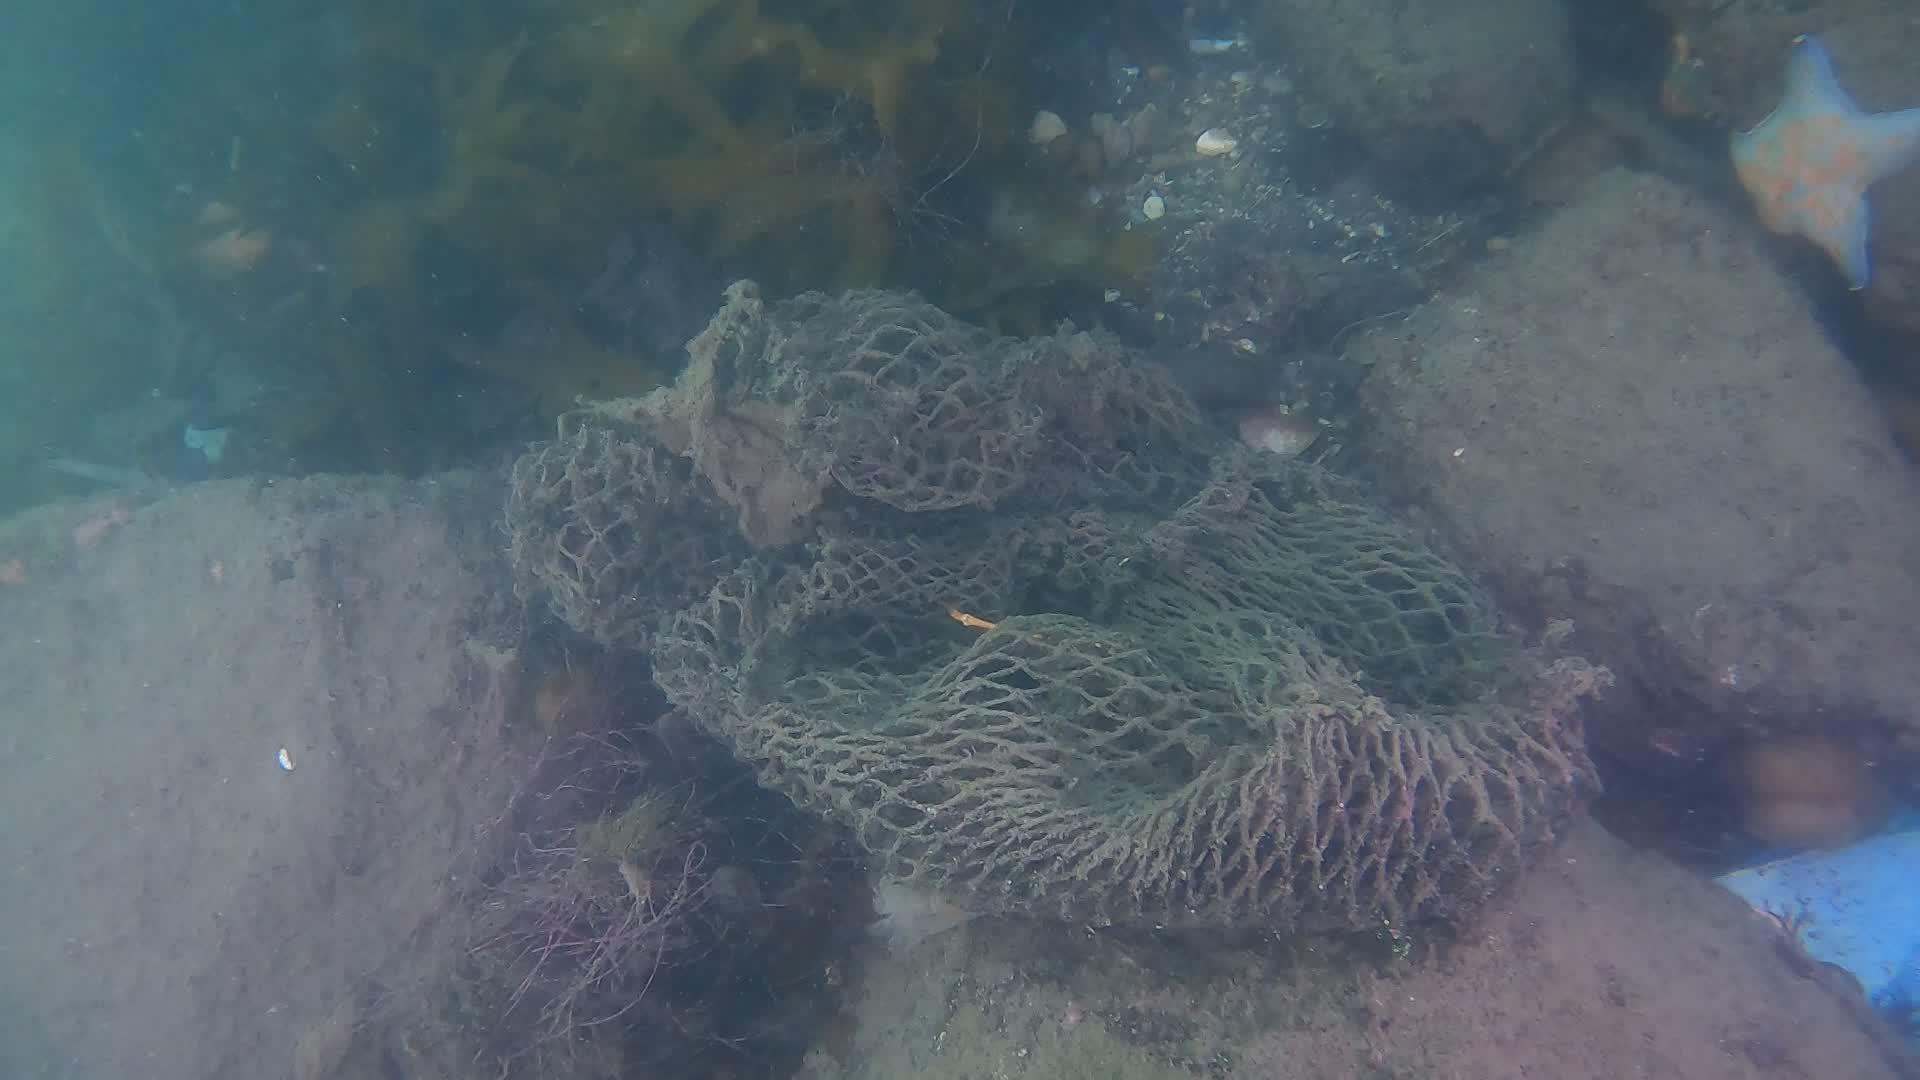fish net: (501, 284, 1604, 935)
